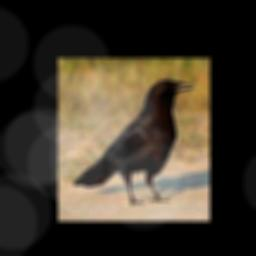Crow: (74, 80, 194, 205)
